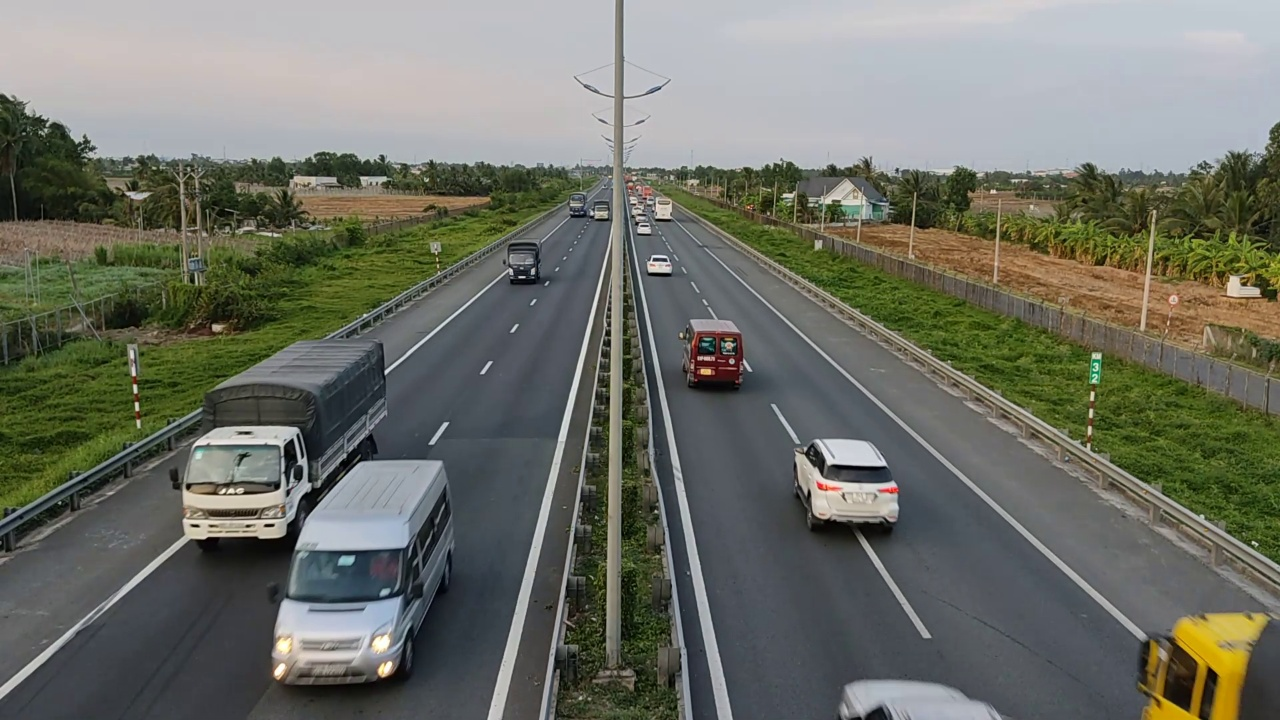bus: (177, 337, 389, 550)
car: (266, 457, 457, 686), (833, 677, 1009, 719), (674, 314, 750, 390), (647, 254, 673, 276)
truck: (175, 338, 390, 551)
